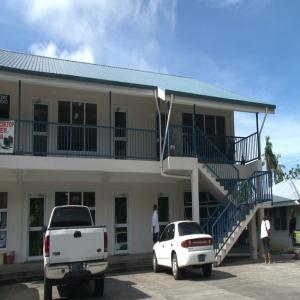Vehicle-registration-plate: (73, 265, 84, 275)
